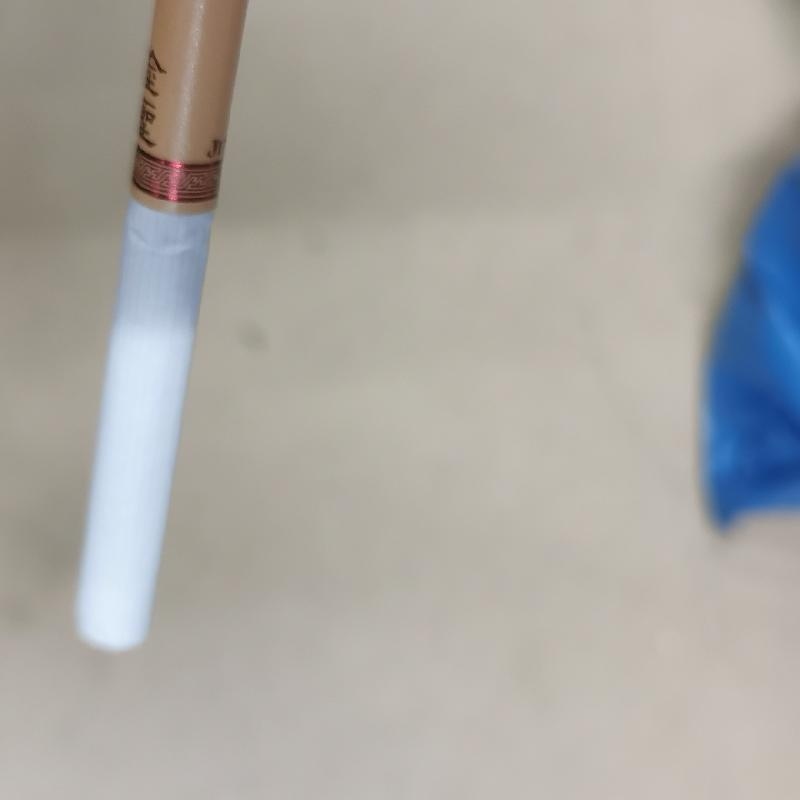cigarette: (78, 0, 247, 658)
